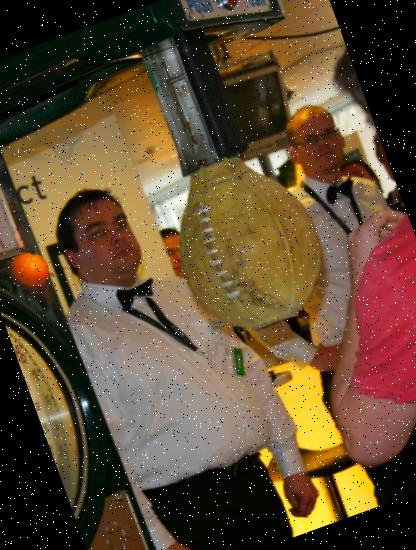Granadilla: (0, 237, 68, 306)
